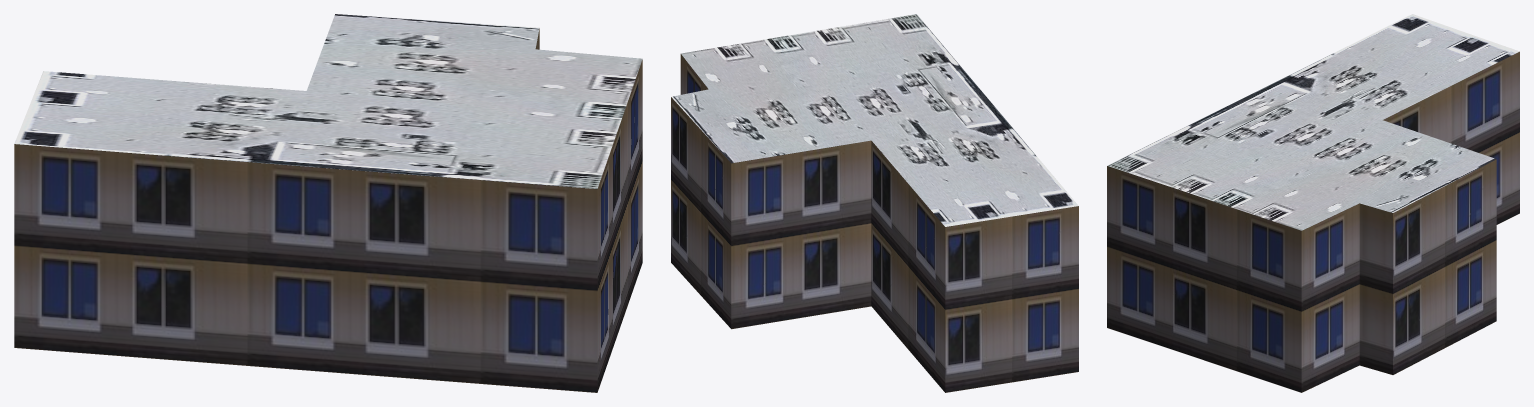
The model's file is ResTex__962.fbx.
The picture shows the model from 3 angles, left to right: view 1: azimuth 30°, elevation 25°; view 2: azimuth 150°, elevation 25°; view 3: azimuth 270°, elevation 25°; orthographic projection. The views are drawn at different scales.
Parts seen in each view (by area): view 1: CityEngineMaterial_5_m, CityEngineMaterial_4_m; view 2: CityEngineMaterial_5_m, CityEngineMaterial_4_m; view 3: CityEngineMaterial_5_m, CityEngineMaterial_4_m.
Part boxes in pixels (bbox=[...]): CityEngineMaterial_5_m: bbox=[14, 28, 642, 392]; CityEngineMaterial_4_m: bbox=[14, 14, 642, 188]; CityEngineMaterial_5_m: bbox=[671, 54, 1078, 392]; CityEngineMaterial_4_m: bbox=[671, 14, 1078, 226]; CityEngineMaterial_5_m: bbox=[1107, 51, 1519, 392]; CityEngineMaterial_4_m: bbox=[1107, 14, 1519, 230].
Size of the model in its own units: 17.21 by 6 by 13.84.
2 materials, 2 textured.
